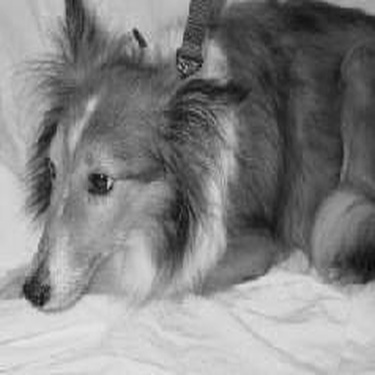dog: (3, 1, 374, 315)
